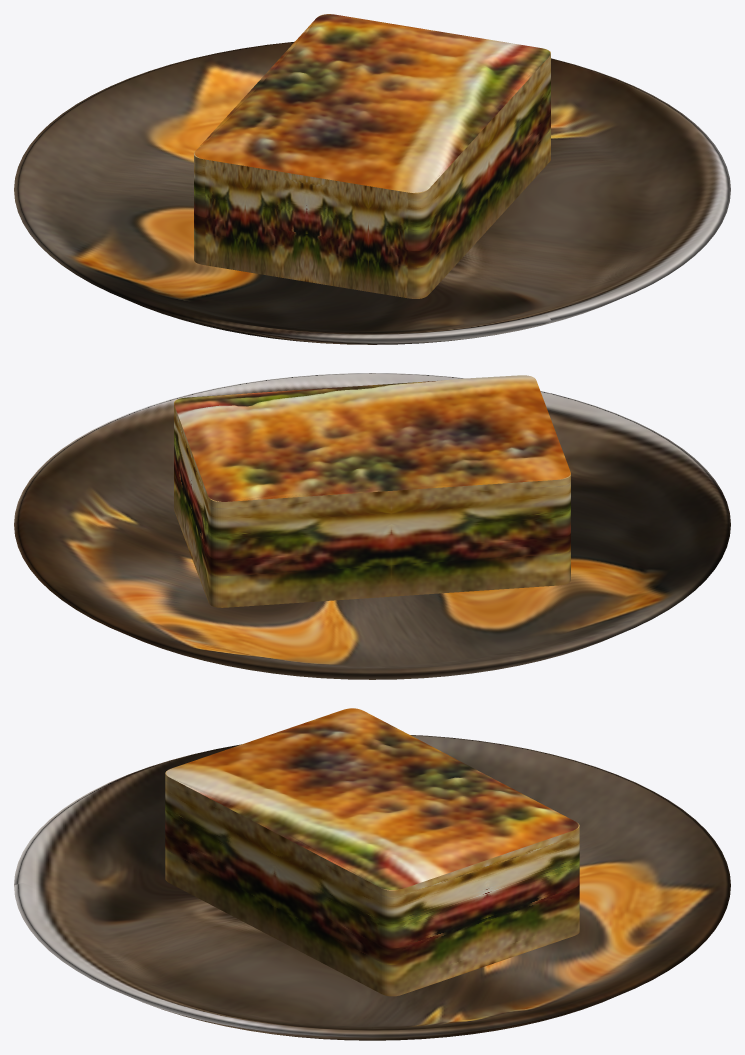
File: tuscan-panini.glb
3 renders of one model, top to bottom at view 1: azimuth 30°, elevation 25°; view 2: azimuth 150°, elevation 25°; view 3: azimuth 270°, elevation 25°, orthographic.
Visible parts, largest first — view 1: DarkBronzeCeramicPlate, RosemaryFocacciaTopCrown, PressedPaniniLayeredSides; view 2: DarkBronzeCeramicPlate, PressedPaniniLayeredSides, RosemaryFocacciaTopCrown; view 3: DarkBronzeCeramicPlate, PressedPaniniLayeredSides, RosemaryFocacciaTopCrown.
Boxes of the visible parts, bbox=[...] form: DarkBronzeCeramicPlate: bbox=[14, 41, 730, 344]; RosemaryFocacciaTopCrown: bbox=[194, 14, 550, 192]; PressedPaniniLayeredSides: bbox=[194, 14, 550, 298]; DarkBronzeCeramicPlate: bbox=[14, 373, 730, 679]; PressedPaniniLayeredSides: bbox=[174, 376, 570, 607]; RosemaryFocacciaTopCrown: bbox=[174, 375, 570, 501]; DarkBronzeCeramicPlate: bbox=[14, 735, 730, 1040]; PressedPaniniLayeredSides: bbox=[165, 708, 579, 996]; RosemaryFocacciaTopCrown: bbox=[166, 708, 578, 889].
Bounding box in the file's own units: 3.44 × 0.7016 × 3.44.
Materials: 3 (3 with a texture image).
